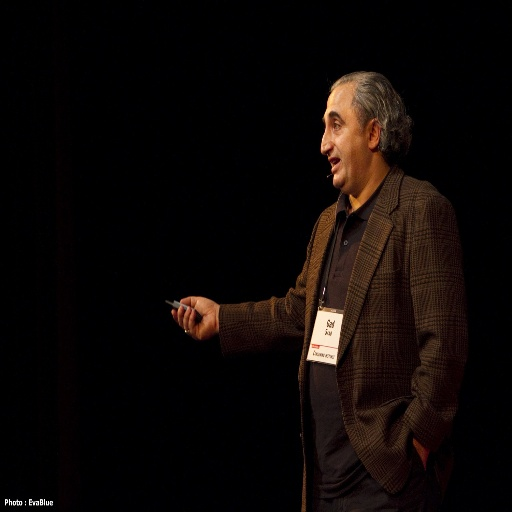hand: (178, 285, 233, 347), (413, 439, 429, 472)
